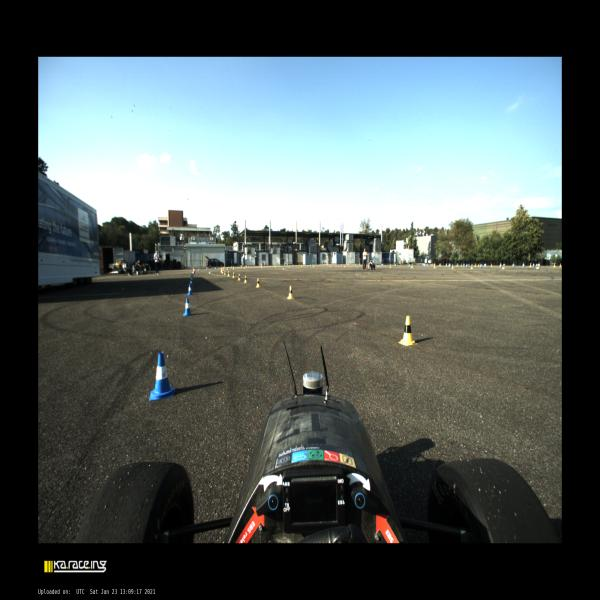blue_cone: (149, 352, 175, 400), (183, 298, 193, 317), (187, 284, 193, 296), (190, 279, 194, 287), (191, 276, 194, 283), (522, 263, 525, 268), (499, 263, 502, 268), (512, 262, 514, 268), (532, 262, 534, 268), (480, 263, 482, 268), (198, 268, 200, 272), (466, 263, 468, 267), (463, 262, 465, 266), (449, 263, 451, 267), (426, 263, 428, 266), (341, 263, 343, 266), (355, 263, 357, 266), (408, 264, 410, 267), (424, 264, 426, 267), (422, 263, 424, 266), (468, 263, 470, 266), (539, 263, 540, 268), (206, 268, 208, 270), (228, 266, 229, 270), (485, 263, 486, 267), (276, 264, 277, 268), (310, 264, 312, 266), (324, 264, 326, 266), (381, 264, 383, 266), (215, 267, 216, 270), (293, 264, 294, 267), (504, 263, 505, 266), (395, 264, 396, 266), (432, 263, 432, 266)
large_orange_cone: (192, 267, 195, 274)
yellow_cone: (398, 315, 418, 346), (287, 286, 294, 300), (256, 278, 260, 287), (244, 275, 248, 283), (238, 273, 241, 281), (232, 272, 235, 279), (536, 264, 539, 270), (227, 271, 230, 276), (470, 264, 473, 269), (451, 264, 454, 269), (502, 264, 505, 269), (553, 263, 556, 268), (434, 263, 436, 269), (530, 262, 532, 268), (390, 263, 392, 268), (224, 270, 226, 275), (411, 264, 413, 268), (244, 265, 246, 269), (222, 270, 224, 274), (560, 263, 562, 267), (288, 264, 290, 268), (456, 262, 458, 266), (344, 264, 346, 267), (445, 263, 447, 266), (301, 264, 303, 267), (460, 263, 462, 266), (474, 264, 476, 266), (357, 264, 358, 268), (233, 266, 234, 270), (491, 263, 492, 267), (330, 264, 331, 268), (221, 269, 222, 272), (478, 263, 479, 266), (439, 263, 440, 266), (440, 263, 441, 266), (313, 264, 314, 267), (275, 265, 276, 268), (261, 266, 262, 268)
